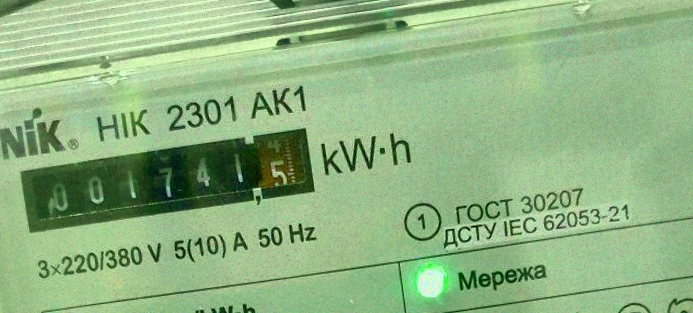0: (84, 170, 107, 206), (48, 178, 71, 213)
1: (119, 164, 141, 202), (228, 149, 247, 185)
4: (190, 152, 215, 189), (265, 135, 283, 155)
5: (266, 154, 289, 188)
7: (155, 162, 177, 199)
screen: (12, 119, 323, 239)
